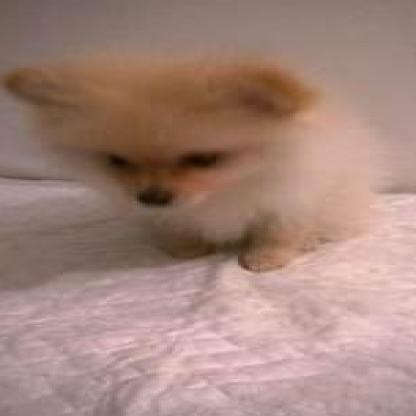dog: (6, 57, 380, 273)
